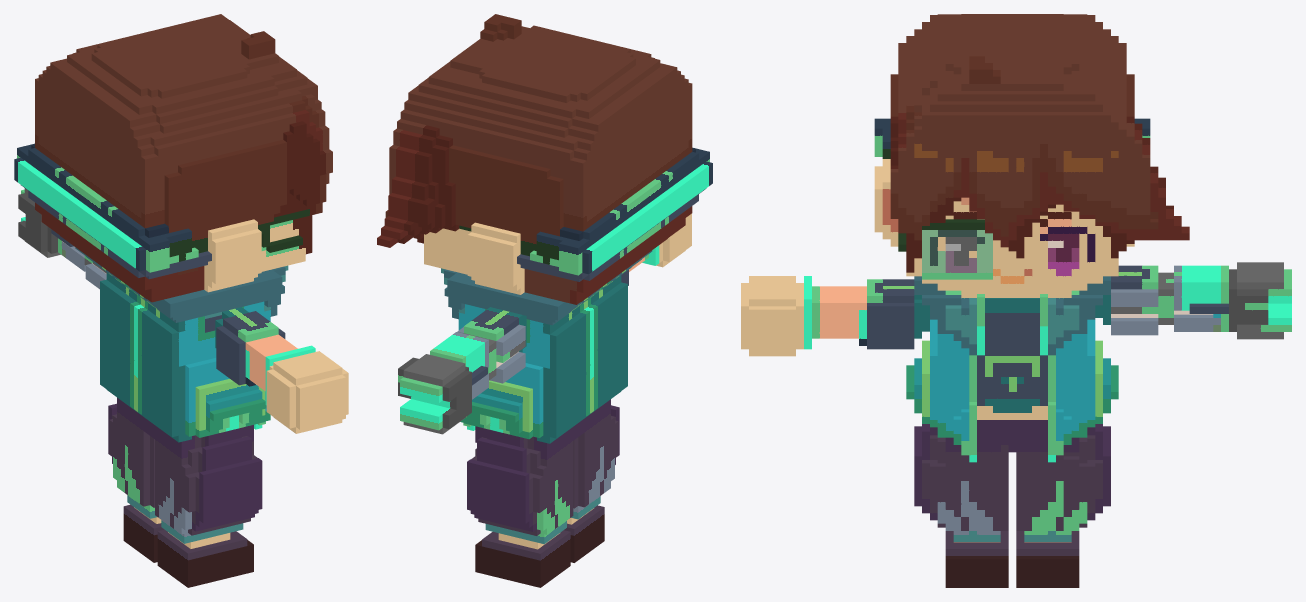
The model's file is 代码师.gltf.
3 renders of one model, left to right at view 1: azimuth 30°, elevation 25°; view 2: azimuth 150°, elevation 25°; view 3: azimuth 270°, elevation 25°, orthographic. The views are drawn at different scales.
Visible parts, largest first — view 1: Object; view 2: Object; view 3: Object.
Boxes of the visible parts, <box> form: Object: <box>14,14,348,587</box>; Object: <box>377,14,712,587</box>; Object: <box>741,14,1291,587</box>.
Size of the model in its own units: 30 by 75 by 70.
1 material, 1 textured.
